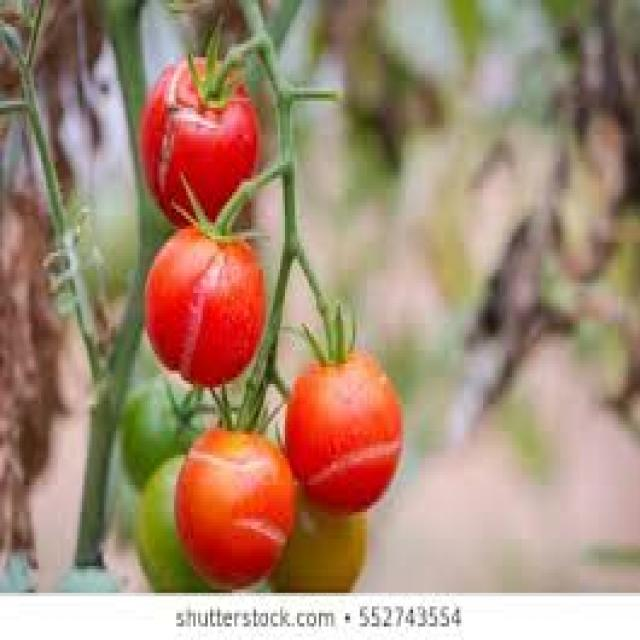organic waste: (169, 380, 297, 582), (140, 168, 261, 380), (282, 303, 403, 512), (136, 10, 258, 216), (138, 452, 234, 590), (261, 488, 365, 590), (121, 374, 205, 488)
